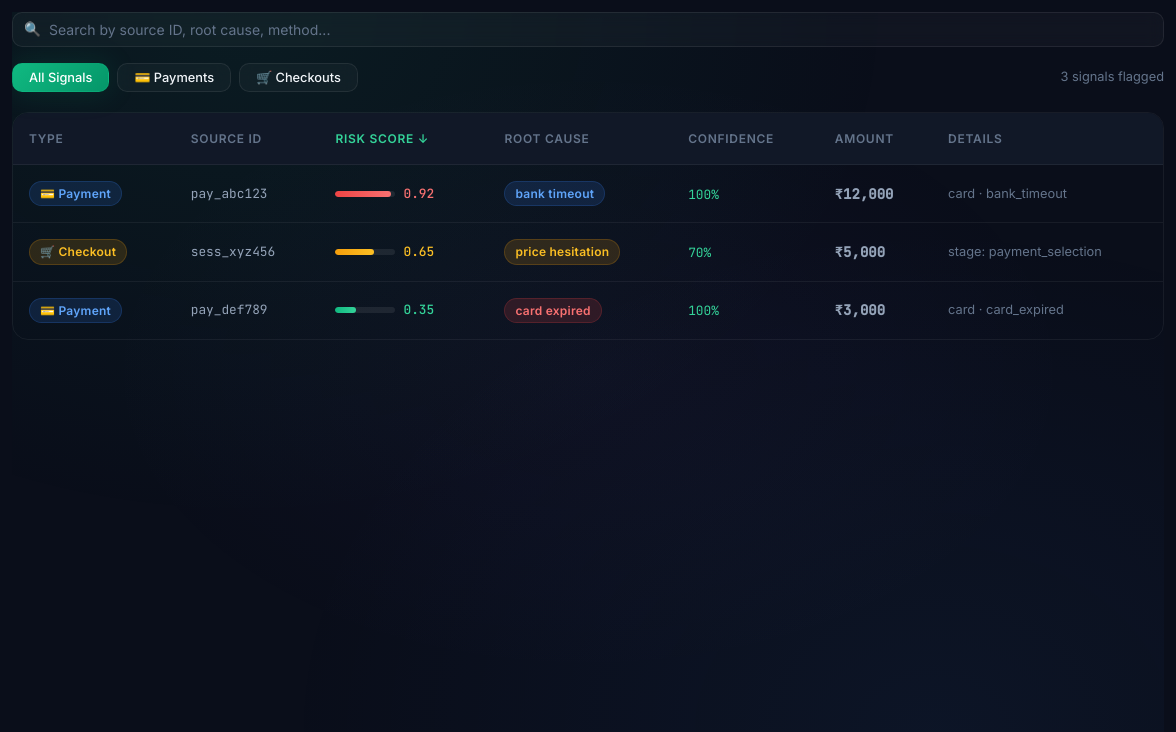
Scenario: SignalTable › FE-SIG-10: search by source_id filters visible rows
Expected: the text "pay_abc123" is shown, [175,165,319,223]
Type "pay_abc123" into the field with placeholder "Search by source ID, root cause, method...".
click(588, 30); type("pay_abc123")  # box [12,12,1164,47]
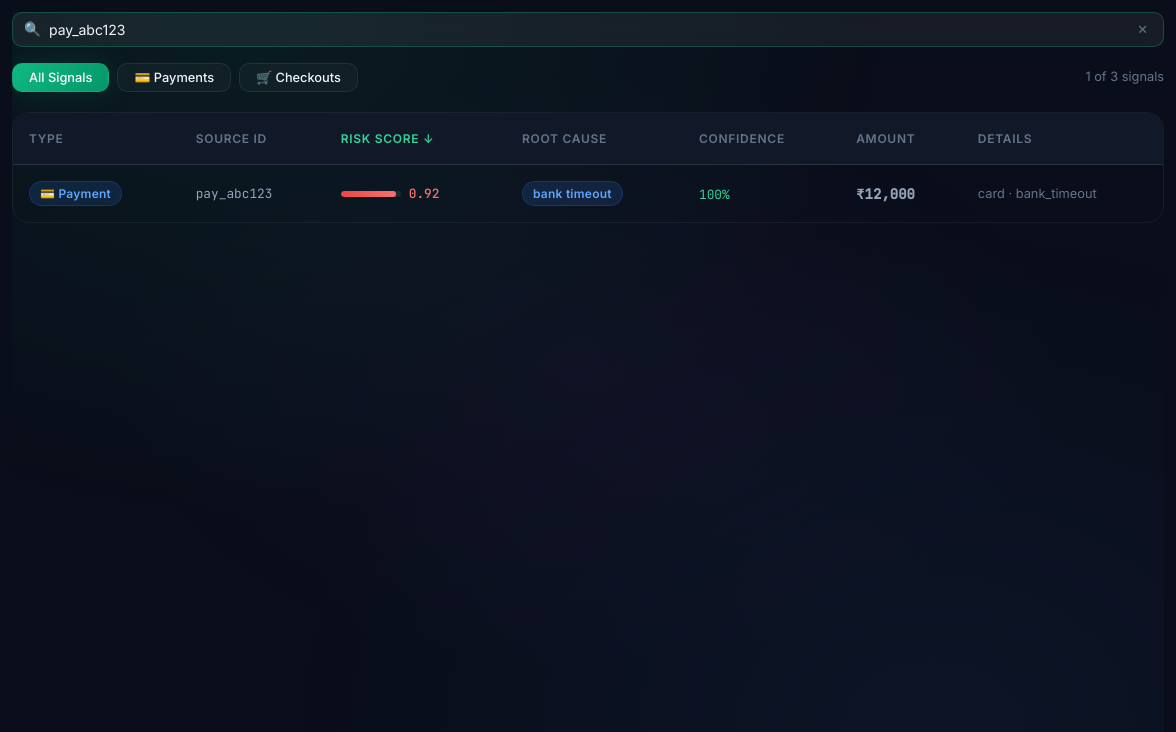
Expected: the text "pay_abc123" is shown, [180,165,325,222]
Now the text "sess_xyz456" is gone
